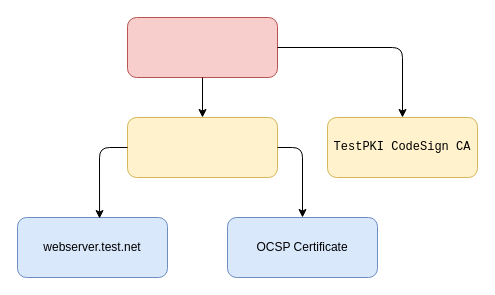
Image size: 495x295. Some labels were removed from this diagram. The centre of each missing label's shape, as x and y in pixels:
TestPKI Root CA: the point at 202,47
TestPKI Sub CA: the point at 202,147
